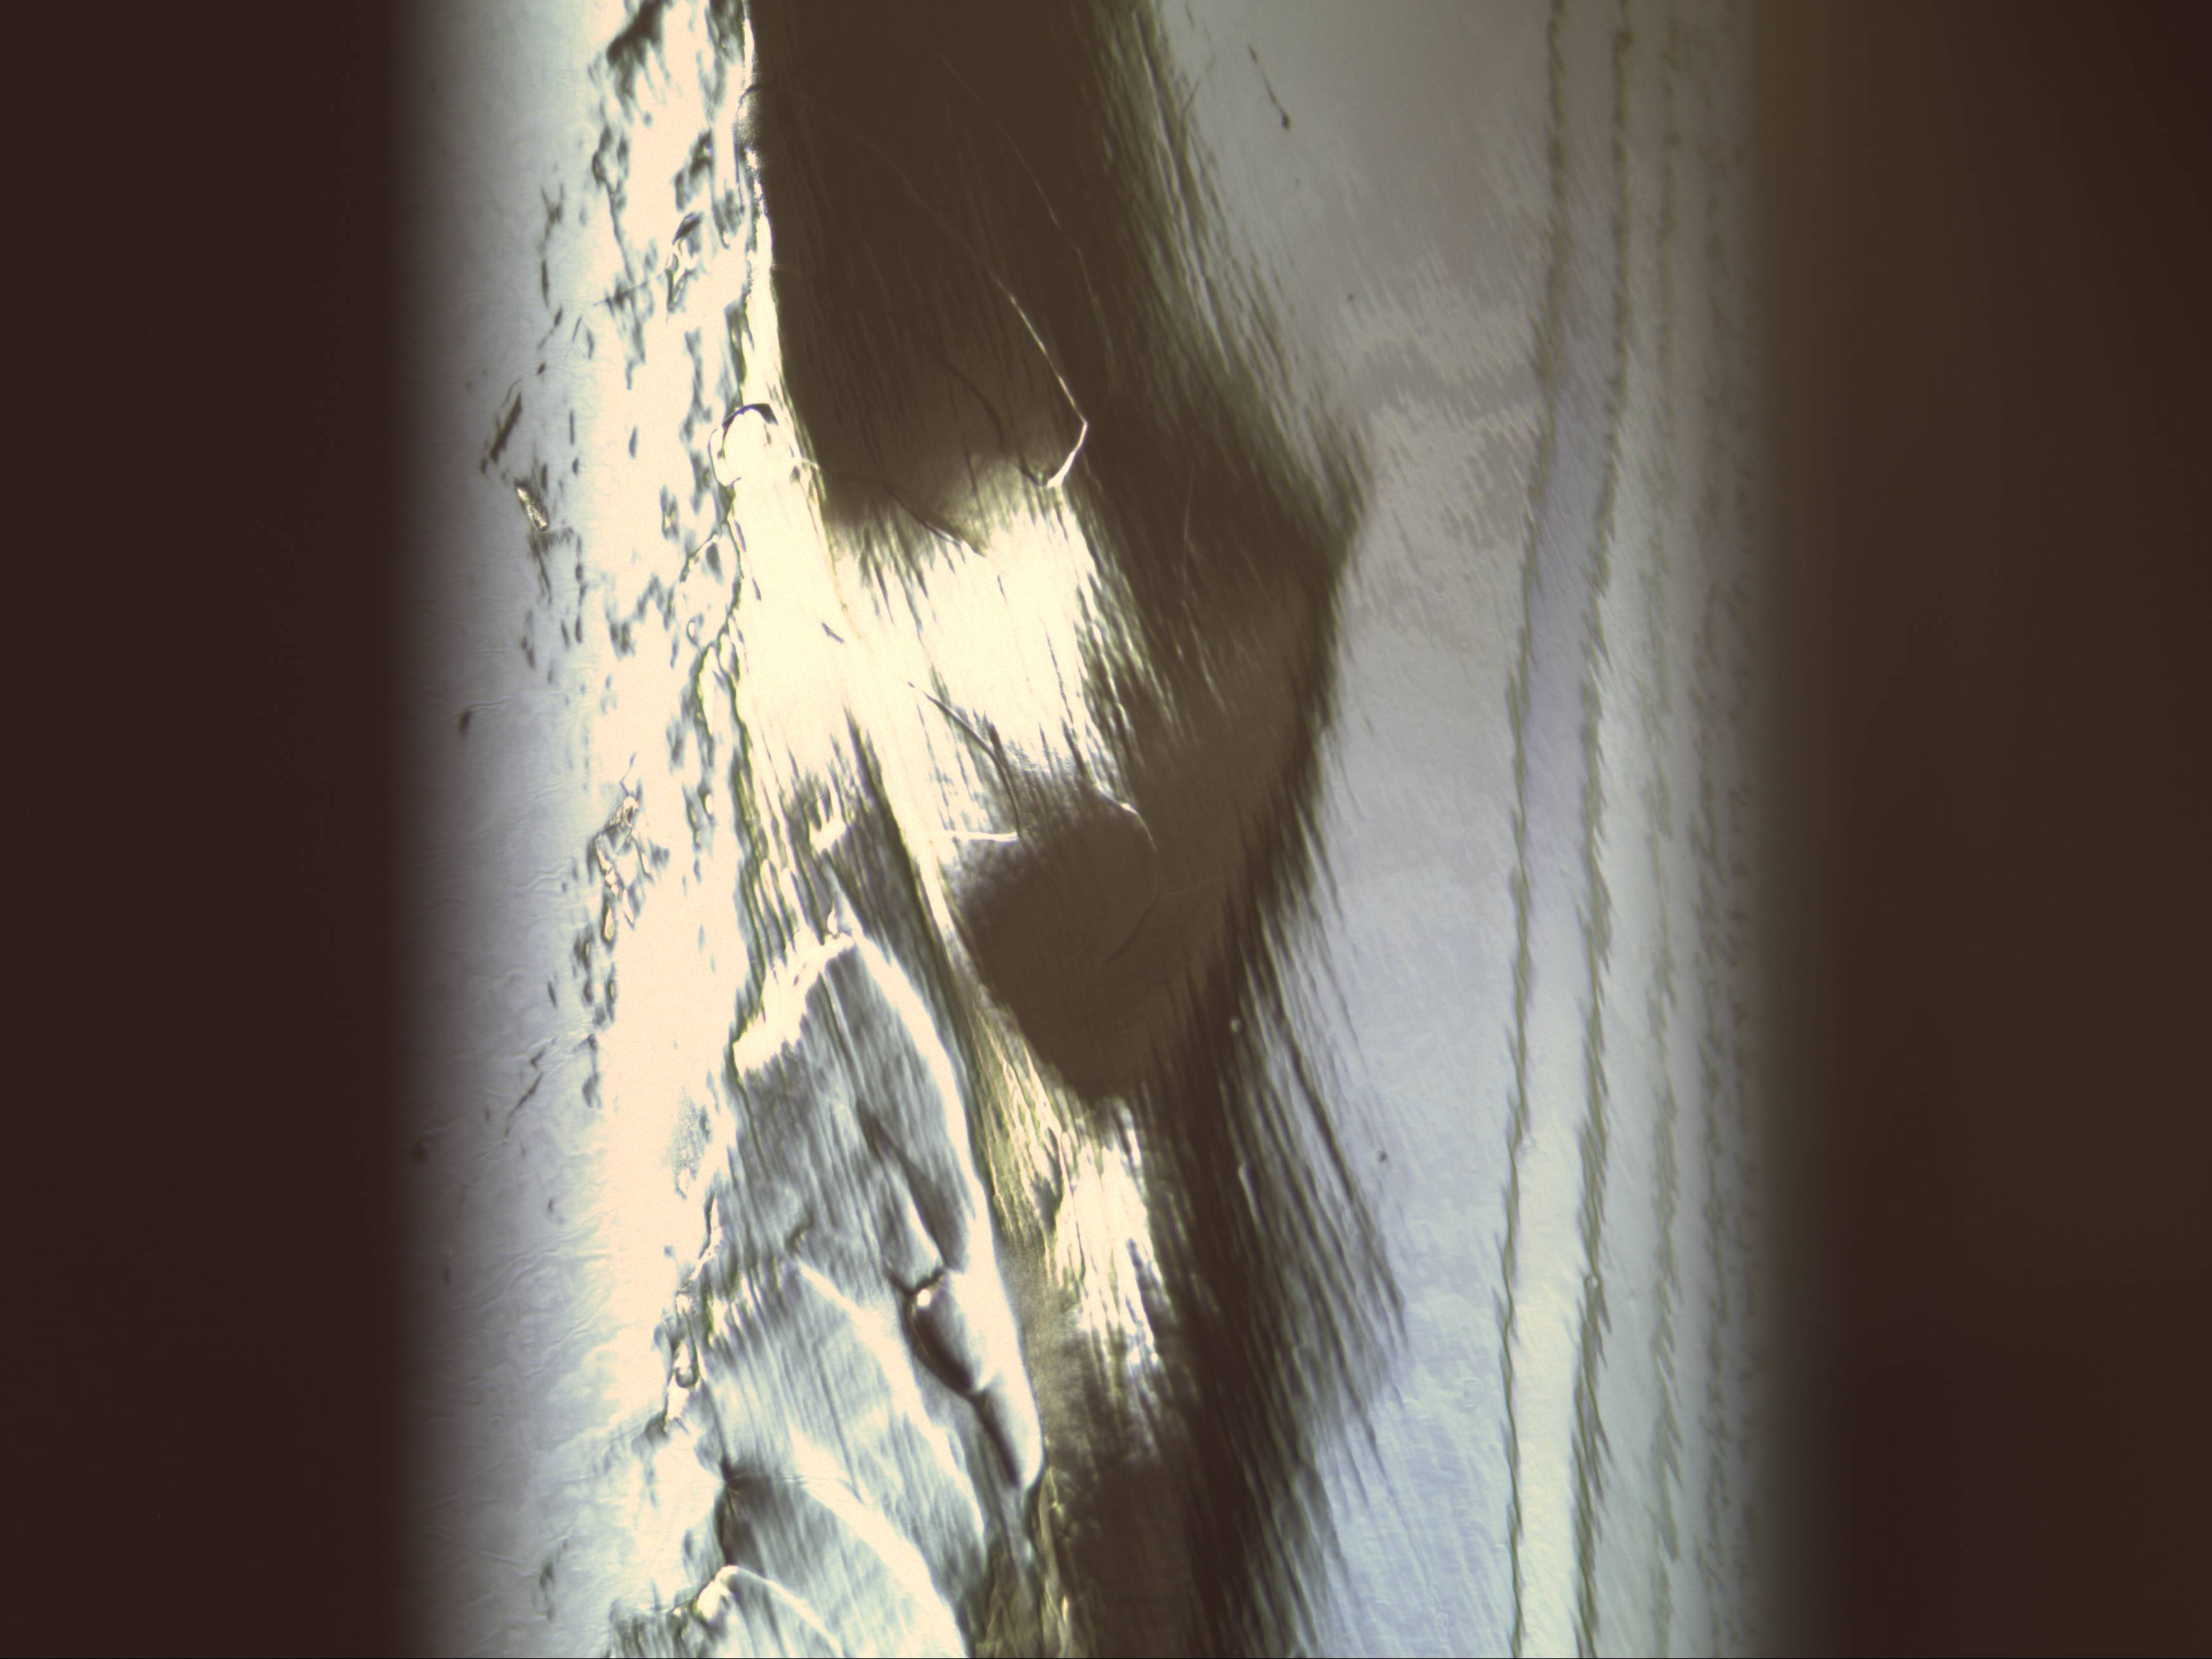defect: (1223, 1009, 1249, 1035)
